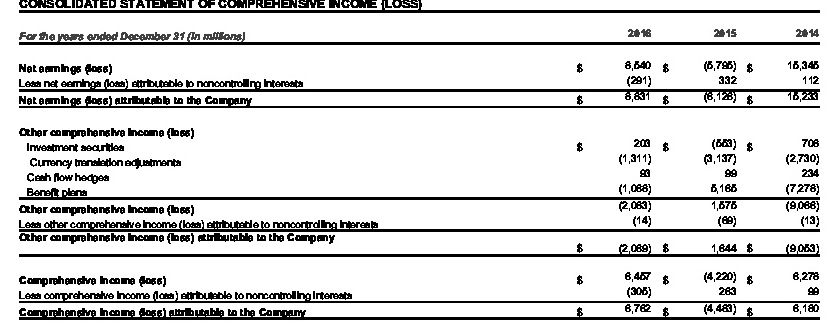table: (0, 0, 835, 334)
